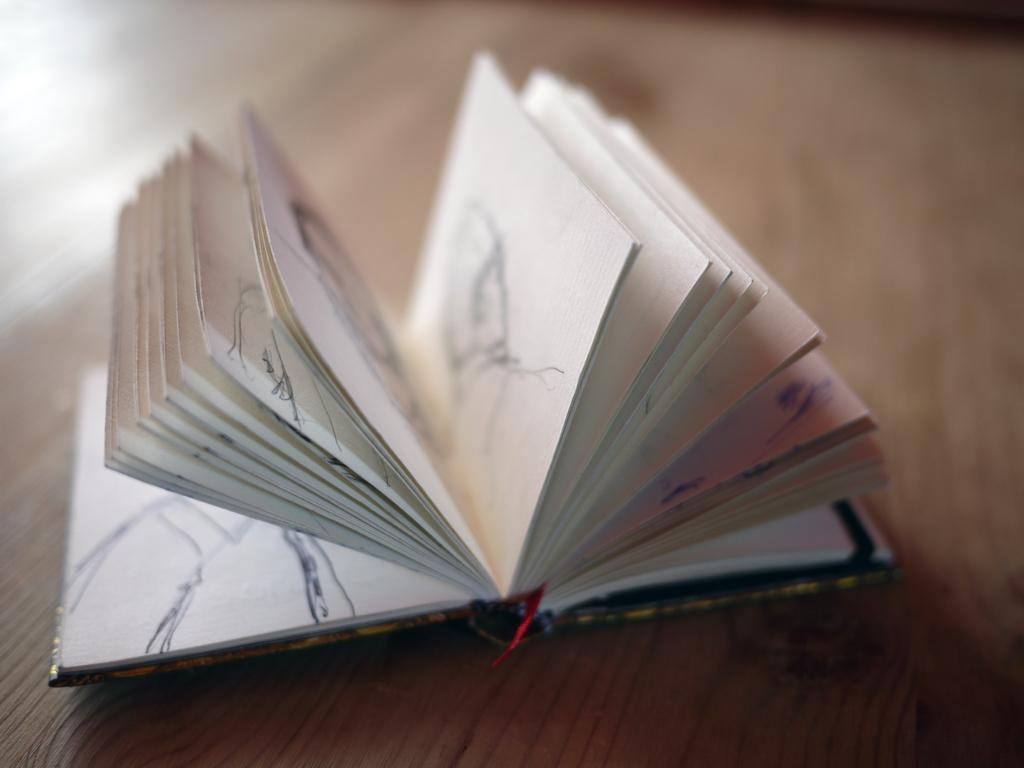book: (45, 45, 900, 700)
